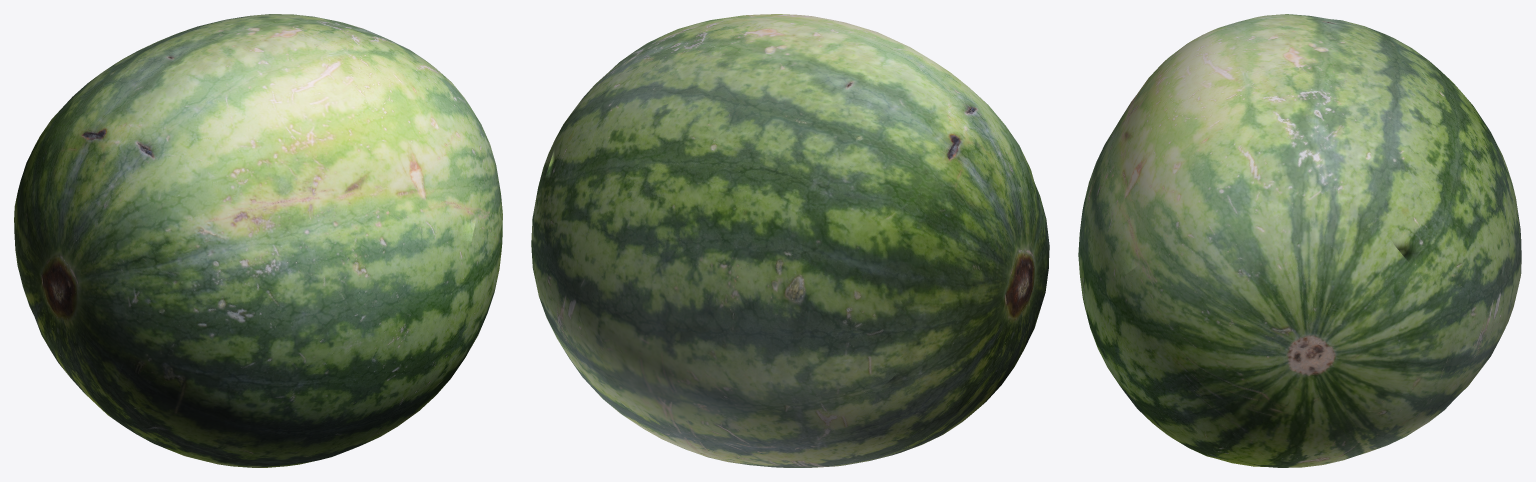
The picture shows the model from 3 angles, left to right: view 1: azimuth 30°, elevation 25°; view 2: azimuth 150°, elevation 25°; view 3: azimuth 270°, elevation 25°; orthographic projection. The views are drawn at different scales.
Visible parts, largest first — view 1: Vesimeloni_1k; view 2: Vesimeloni_1k; view 3: Vesimeloni_1k.
Boxes of the visible parts, <box> form: Vesimeloni_1k: <box>14,14,502,467</box>; Vesimeloni_1k: <box>531,14,1049,467</box>; Vesimeloni_1k: <box>1078,14,1521,467</box>.
Bounding box in the file's own units: 771 × 688 × 696.
1 material, 1 textured.
